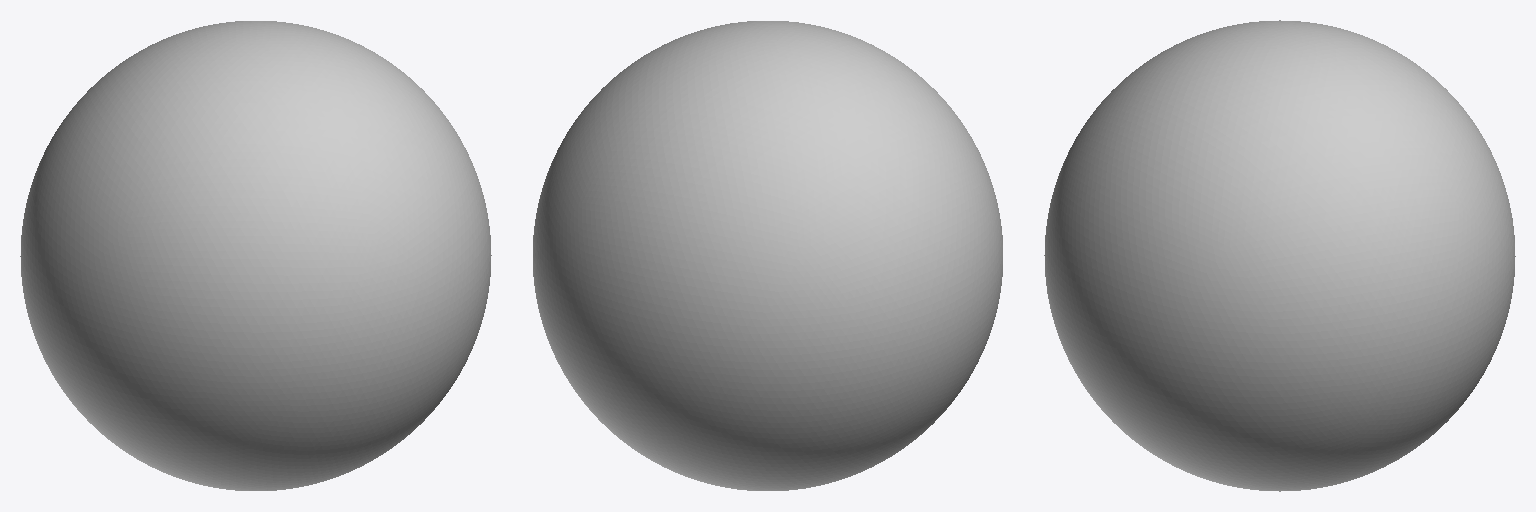
File: Venus.obj
The picture shows the model from 3 angles: view 1: azimuth 30°, elevation 25°; view 2: azimuth 150°, elevation 25°; view 3: azimuth 270°, elevation 25°; orthographic projection.
Visible parts, largest first — view 1: Mercury; view 2: Mercury; view 3: Mercury.
Boxes of the visible parts, box(x1,y1,x2,y2) form: Mercury: box(20, 21, 491, 490); Mercury: box(533, 21, 1002, 490); Mercury: box(1044, 20, 1515, 491).
Size of the model in its own units: 1.09 by 1.09 by 1.09.